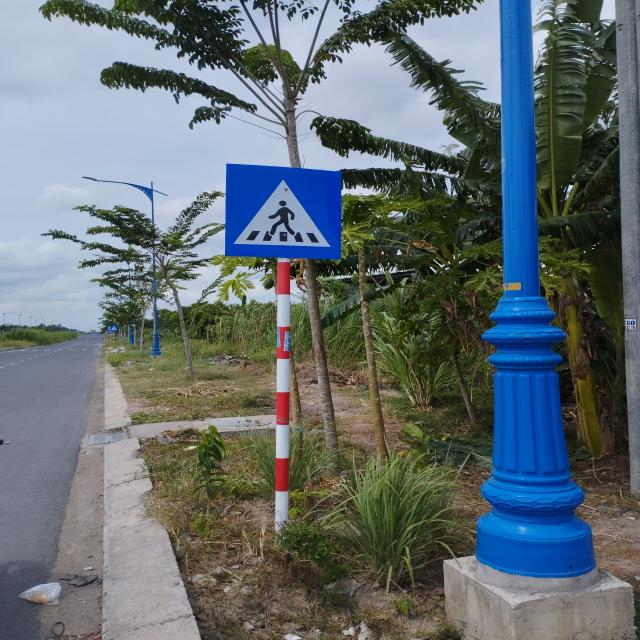Giao_Nhau_Duong_Uu_Tien: (226, 164, 344, 258)
